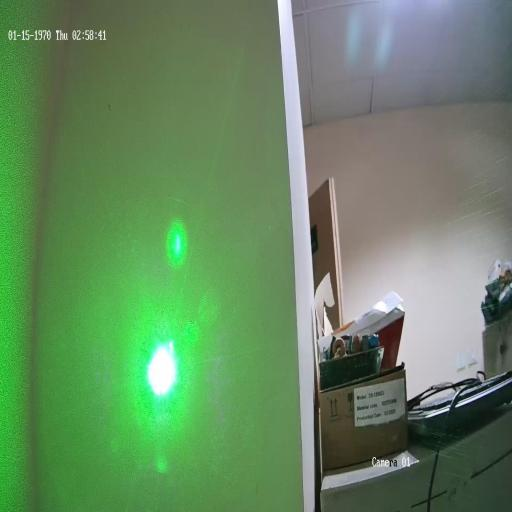laser: (139, 322, 187, 412)
